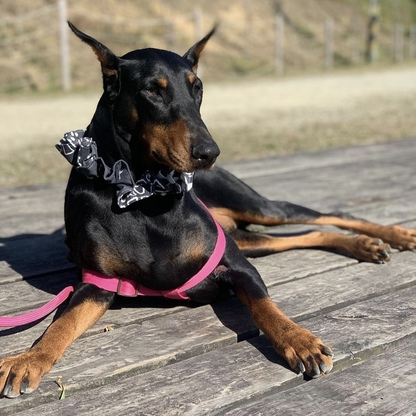doberman: (62, 19, 264, 307)
